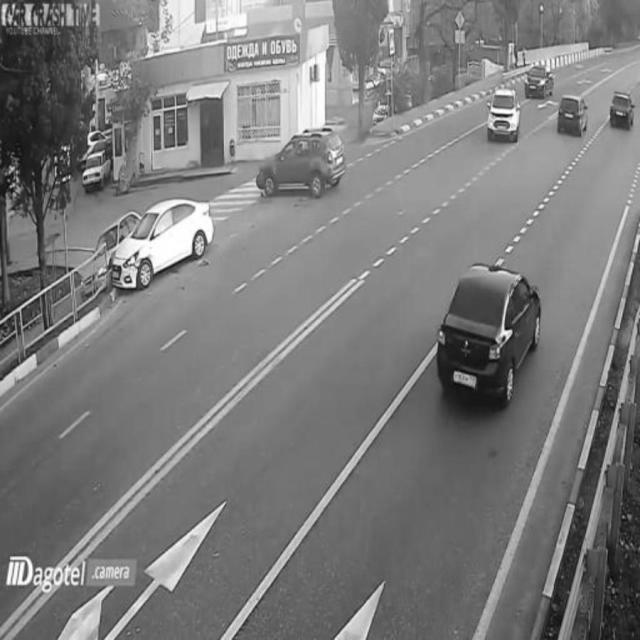accident: (79, 200, 213, 291)
vehicle: (429, 263, 547, 400), (257, 128, 347, 196), (484, 89, 522, 150), (555, 90, 591, 136), (81, 142, 111, 196), (607, 88, 637, 138), (524, 61, 554, 103)
